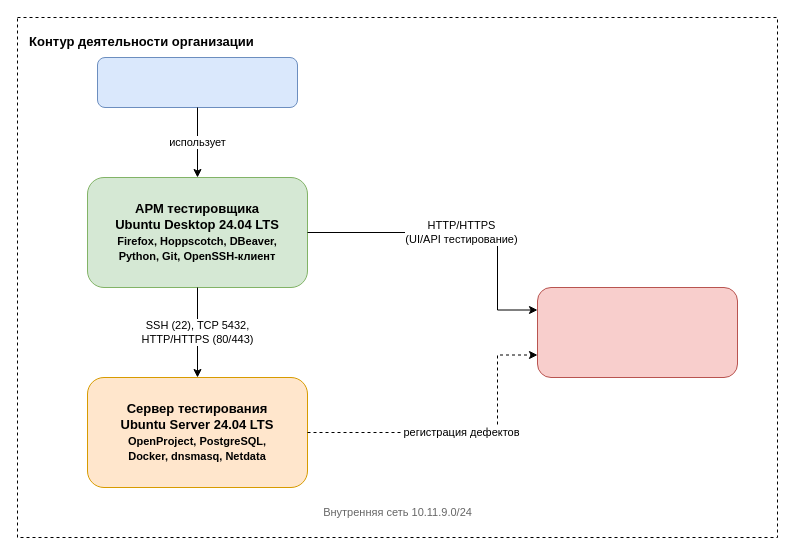
Image size: 795x555. Some labels were removed from this diagram. The centre of each missing label's shape, as x and y in pixels:
QA-тестировщик: the point at 197,82
Тестируемый сервис бронирования авиабилетов и отелей (веб/моб.): the point at 637,332
